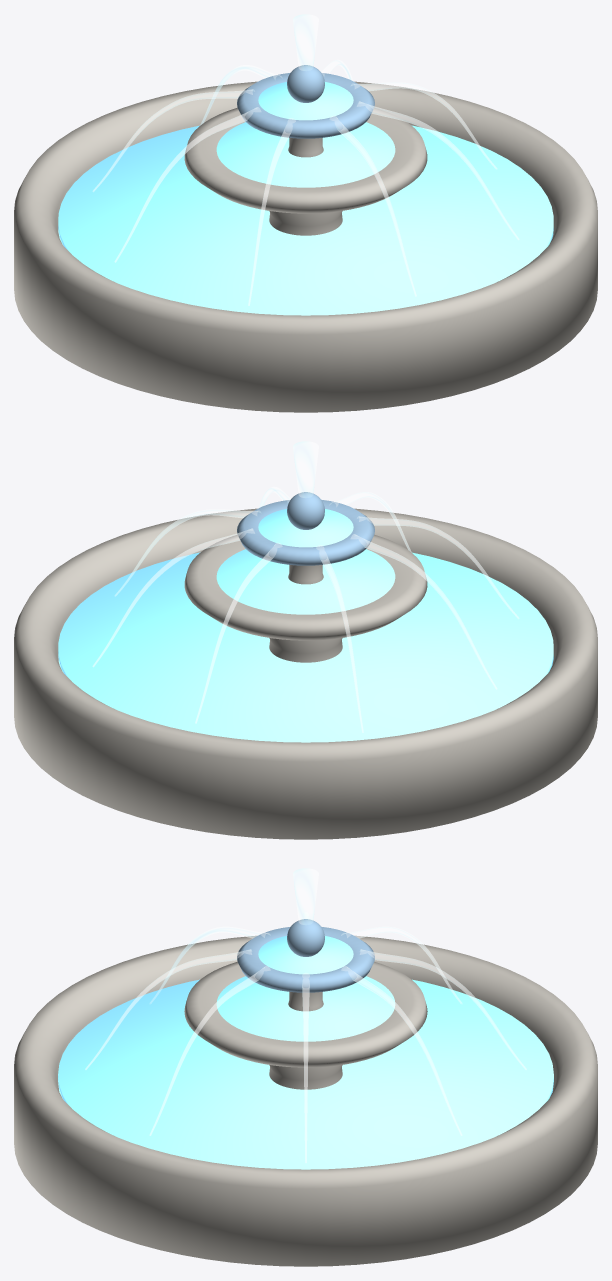
The model's file is air-mancur-blender-v1.glb.
3 views of the same model, one above another, from view 1: azimuth 30°, elevation 25°; view 2: azimuth 150°, elevation 25°; view 3: azimuth 270°, elevation 25° (orthographic).
Parts seen in each view (by area): view 1: basin_wall, water_main, bowl_lower, water_bowl, spray, bowl_top, water_top, pedestal, finial, column2; view 2: basin_wall, water_main, bowl_lower, water_bowl, spray, bowl_top, water_top, pedestal, finial, column2; view 3: basin_wall, water_main, bowl_lower, water_bowl, spray, bowl_top, water_top, pedestal, finial, column2.
Boxes of the visible parts, left/top/right/bottom form: basin_wall: left=14, top=81, right=597, bottom=412; water_main: left=58, top=125, right=553, bottom=315; bowl_lower: left=184, top=107, right=427, bottom=213; water_bowl: left=216, top=122, right=395, bottom=187; spray: left=92, top=14, right=519, bottom=305; bowl_top: left=237, top=72, right=374, bottom=138; water_top: left=258, top=82, right=353, bottom=120; pedestal: left=269, top=211, right=342, bottom=235; finial: left=287, top=65, right=324, bottom=102; column2: left=288, top=138, right=323, bottom=157; basin_wall: left=14, top=508, right=597, bottom=839; water_main: left=58, top=552, right=553, bottom=742; bowl_lower: left=184, top=534, right=427, bottom=640; water_bowl: left=216, top=549, right=395, bottom=614; spray: left=92, top=441, right=519, bottom=732; bowl_top: left=237, top=499, right=374, bottom=565; water_top: left=258, top=509, right=353, bottom=547; pedestal: left=269, top=638, right=342, bottom=662; finial: left=287, top=492, right=324, bottom=529; column2: left=288, top=565, right=323, bottom=584; basin_wall: left=14, top=935, right=597, bottom=1266; water_main: left=58, top=979, right=553, bottom=1169; bowl_lower: left=184, top=962, right=427, bottom=1067; water_bowl: left=216, top=976, right=395, bottom=1041; spray: left=85, top=868, right=526, bottom=1162; bowl_top: left=237, top=926, right=374, bottom=992; water_top: left=258, top=936, right=353, bottom=974; pedestal: left=269, top=1065, right=342, bottom=1089; finial: left=287, top=919, right=324, bottom=956; column2: left=288, top=992, right=323, bottom=1011.
Size of what is drawn, in the model's own units: 4.9 by 2.5 by 4.9.
4 materials, 1 textured.
